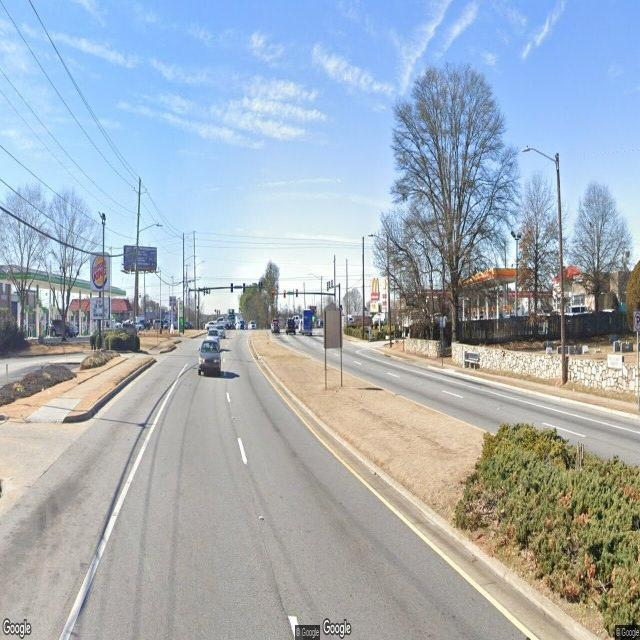seating: (465, 352, 480, 371)
trash_can: (462, 351, 468, 368)
